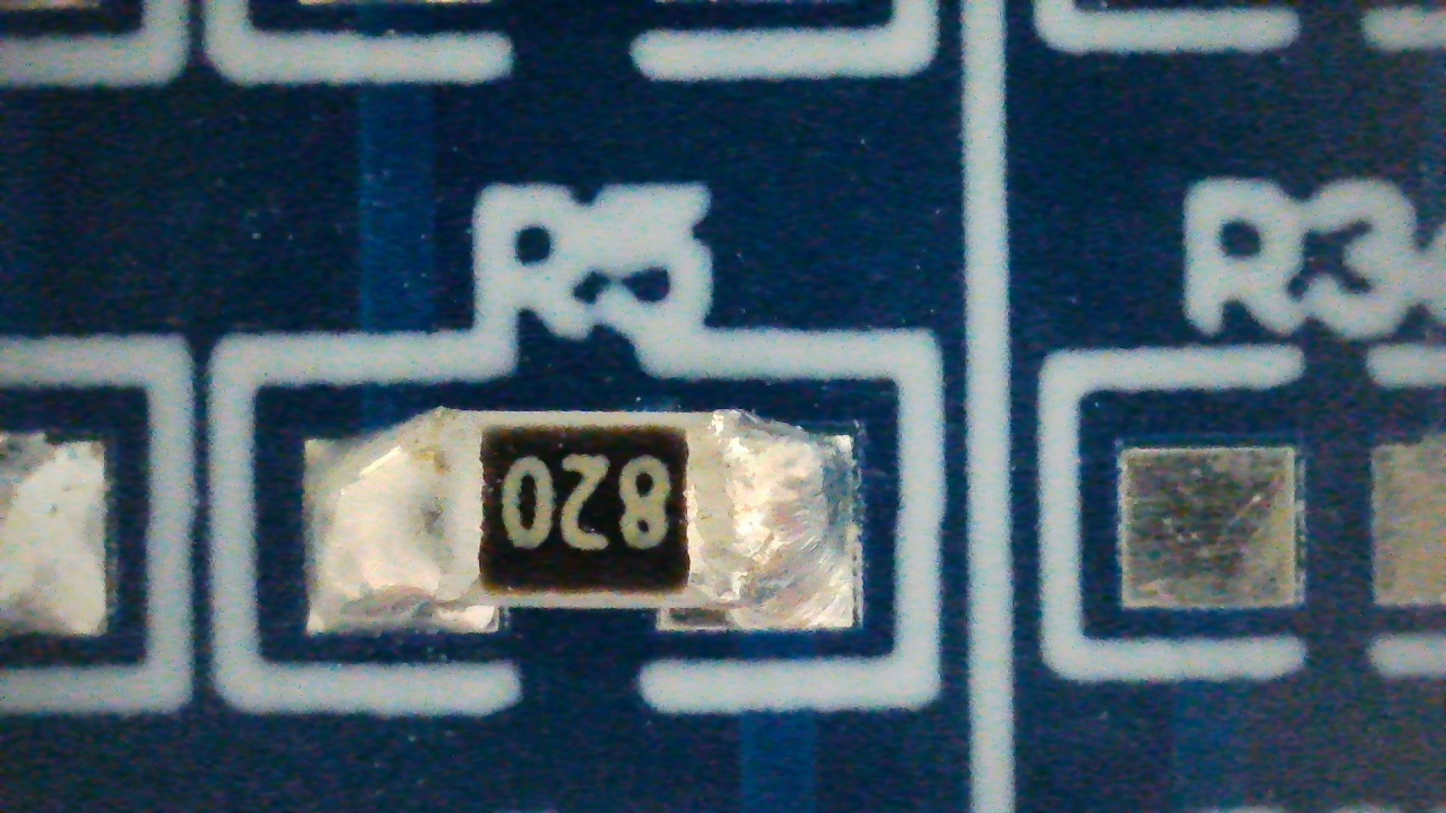NG: (305, 407, 862, 633)
